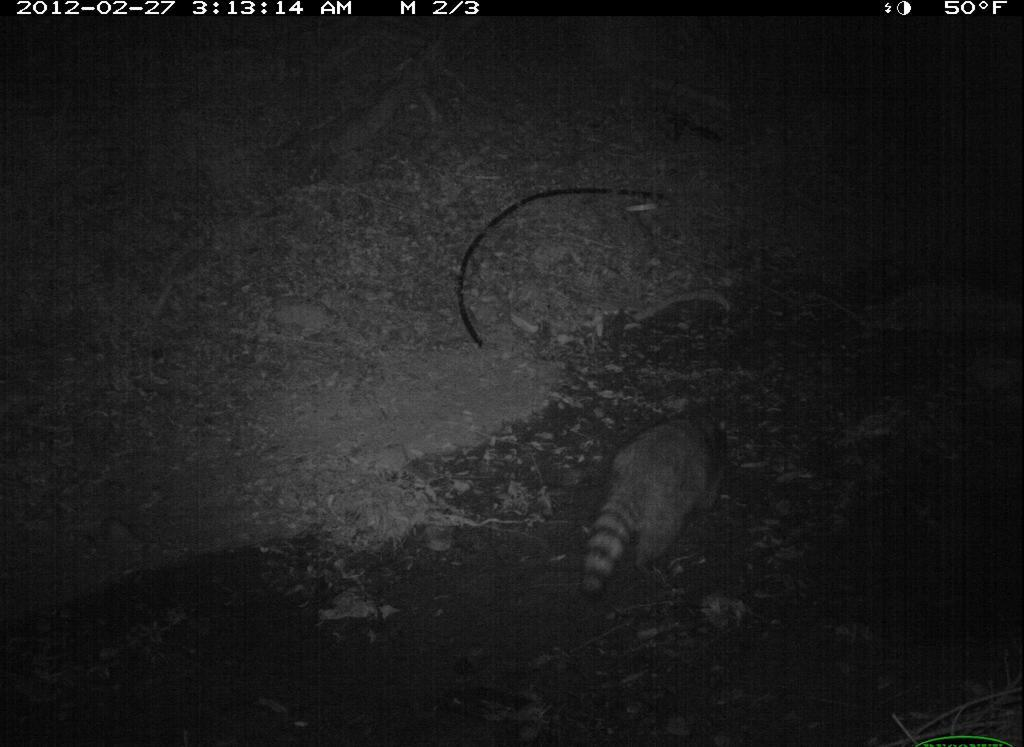raccoon: (569, 397, 753, 606)
